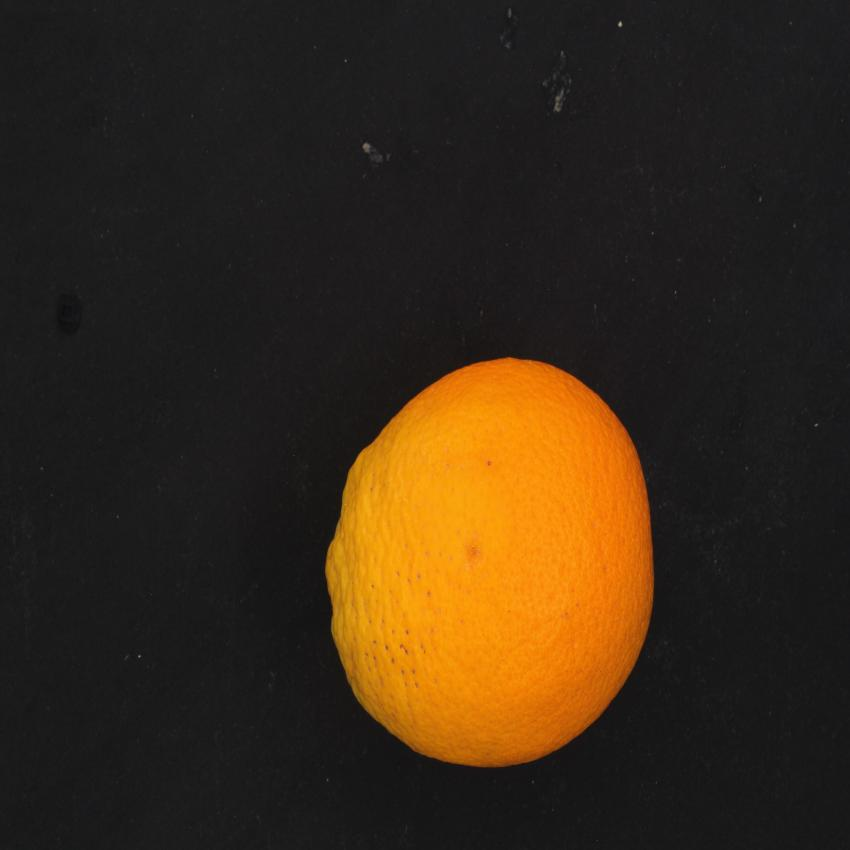Buen estado: (316, 344, 683, 781)
